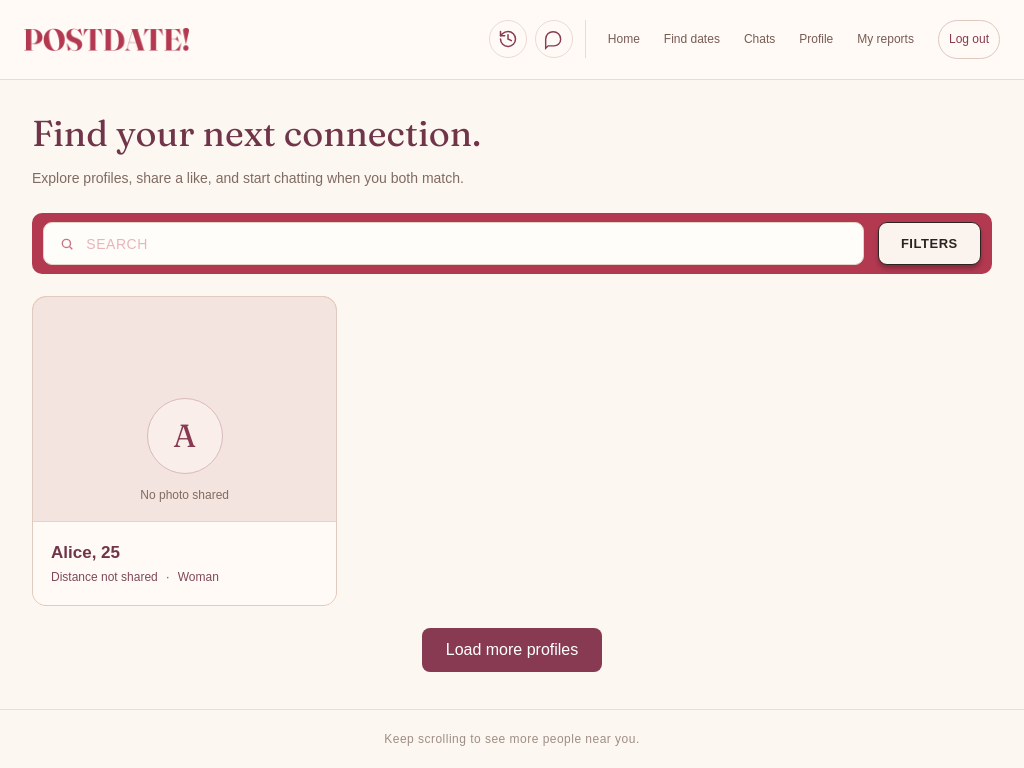
it: discovery loads the next page using the returned cursor
Expected: the text "Alice, 25" is shown, [51,542,120,562]
Click the button "Load more profiles" at (512, 650), box [422,628,602,672]
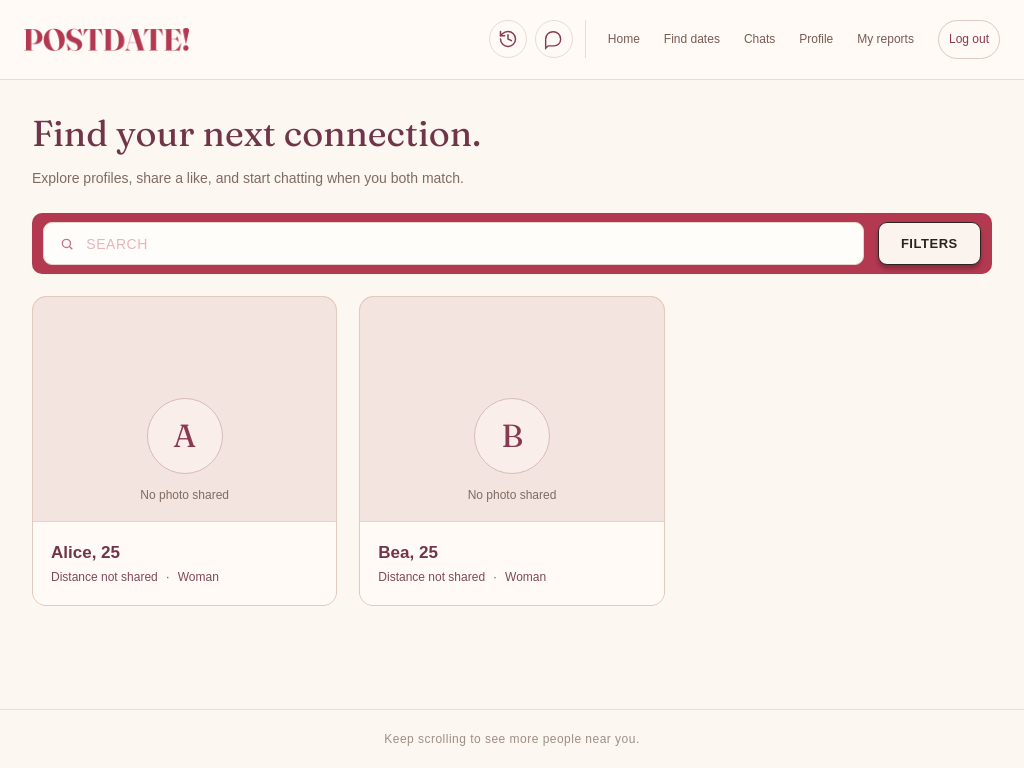
Expected: the text "Bea, 25" is shown, [378,542,438,562]
Expected: the button "Load more profiles" is gone
